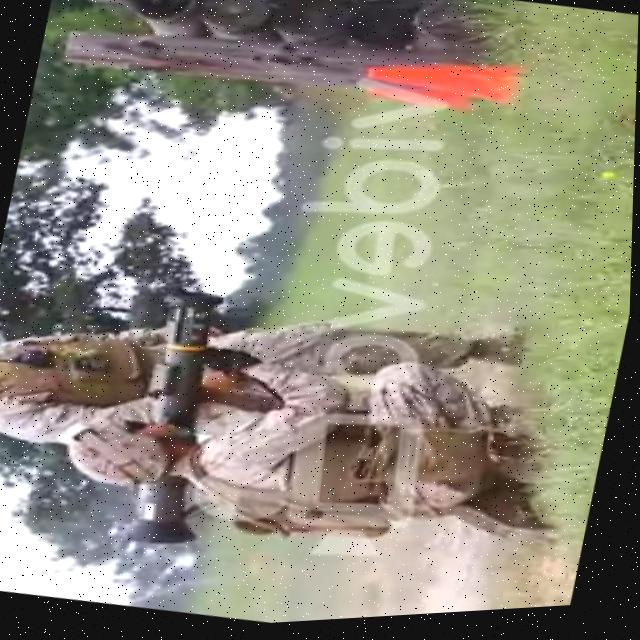rocket: (110, 281, 250, 554)
